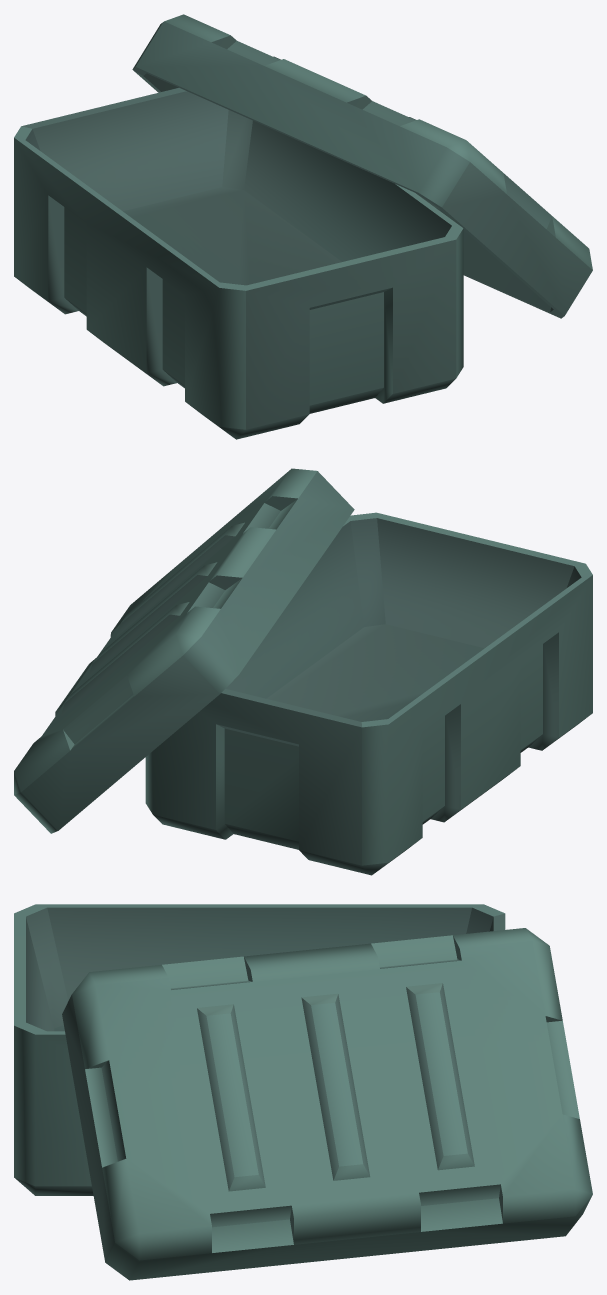
Rendered from MilitaryCrateBox_Open.fbx.
3 views of the same model, one above another, from view 1: azimuth 30°, elevation 25°; view 2: azimuth 150°, elevation 25°; view 3: azimuth 270°, elevation 25° (orthographic). The views are drawn at different scales.
Visible parts, largest first — view 1: MilitaryCrateBox_Open; view 2: MilitaryCrateBox_Open; view 3: MilitaryCrateBox_Open.
Part boxes in pixels (bbox=[...]): MilitaryCrateBox_Open: bbox=[14, 14, 592, 439]; MilitaryCrateBox_Open: bbox=[14, 468, 592, 875]; MilitaryCrateBox_Open: bbox=[14, 904, 592, 1280].
Size of the model in its own units: 171 by 85.07 by 188.
